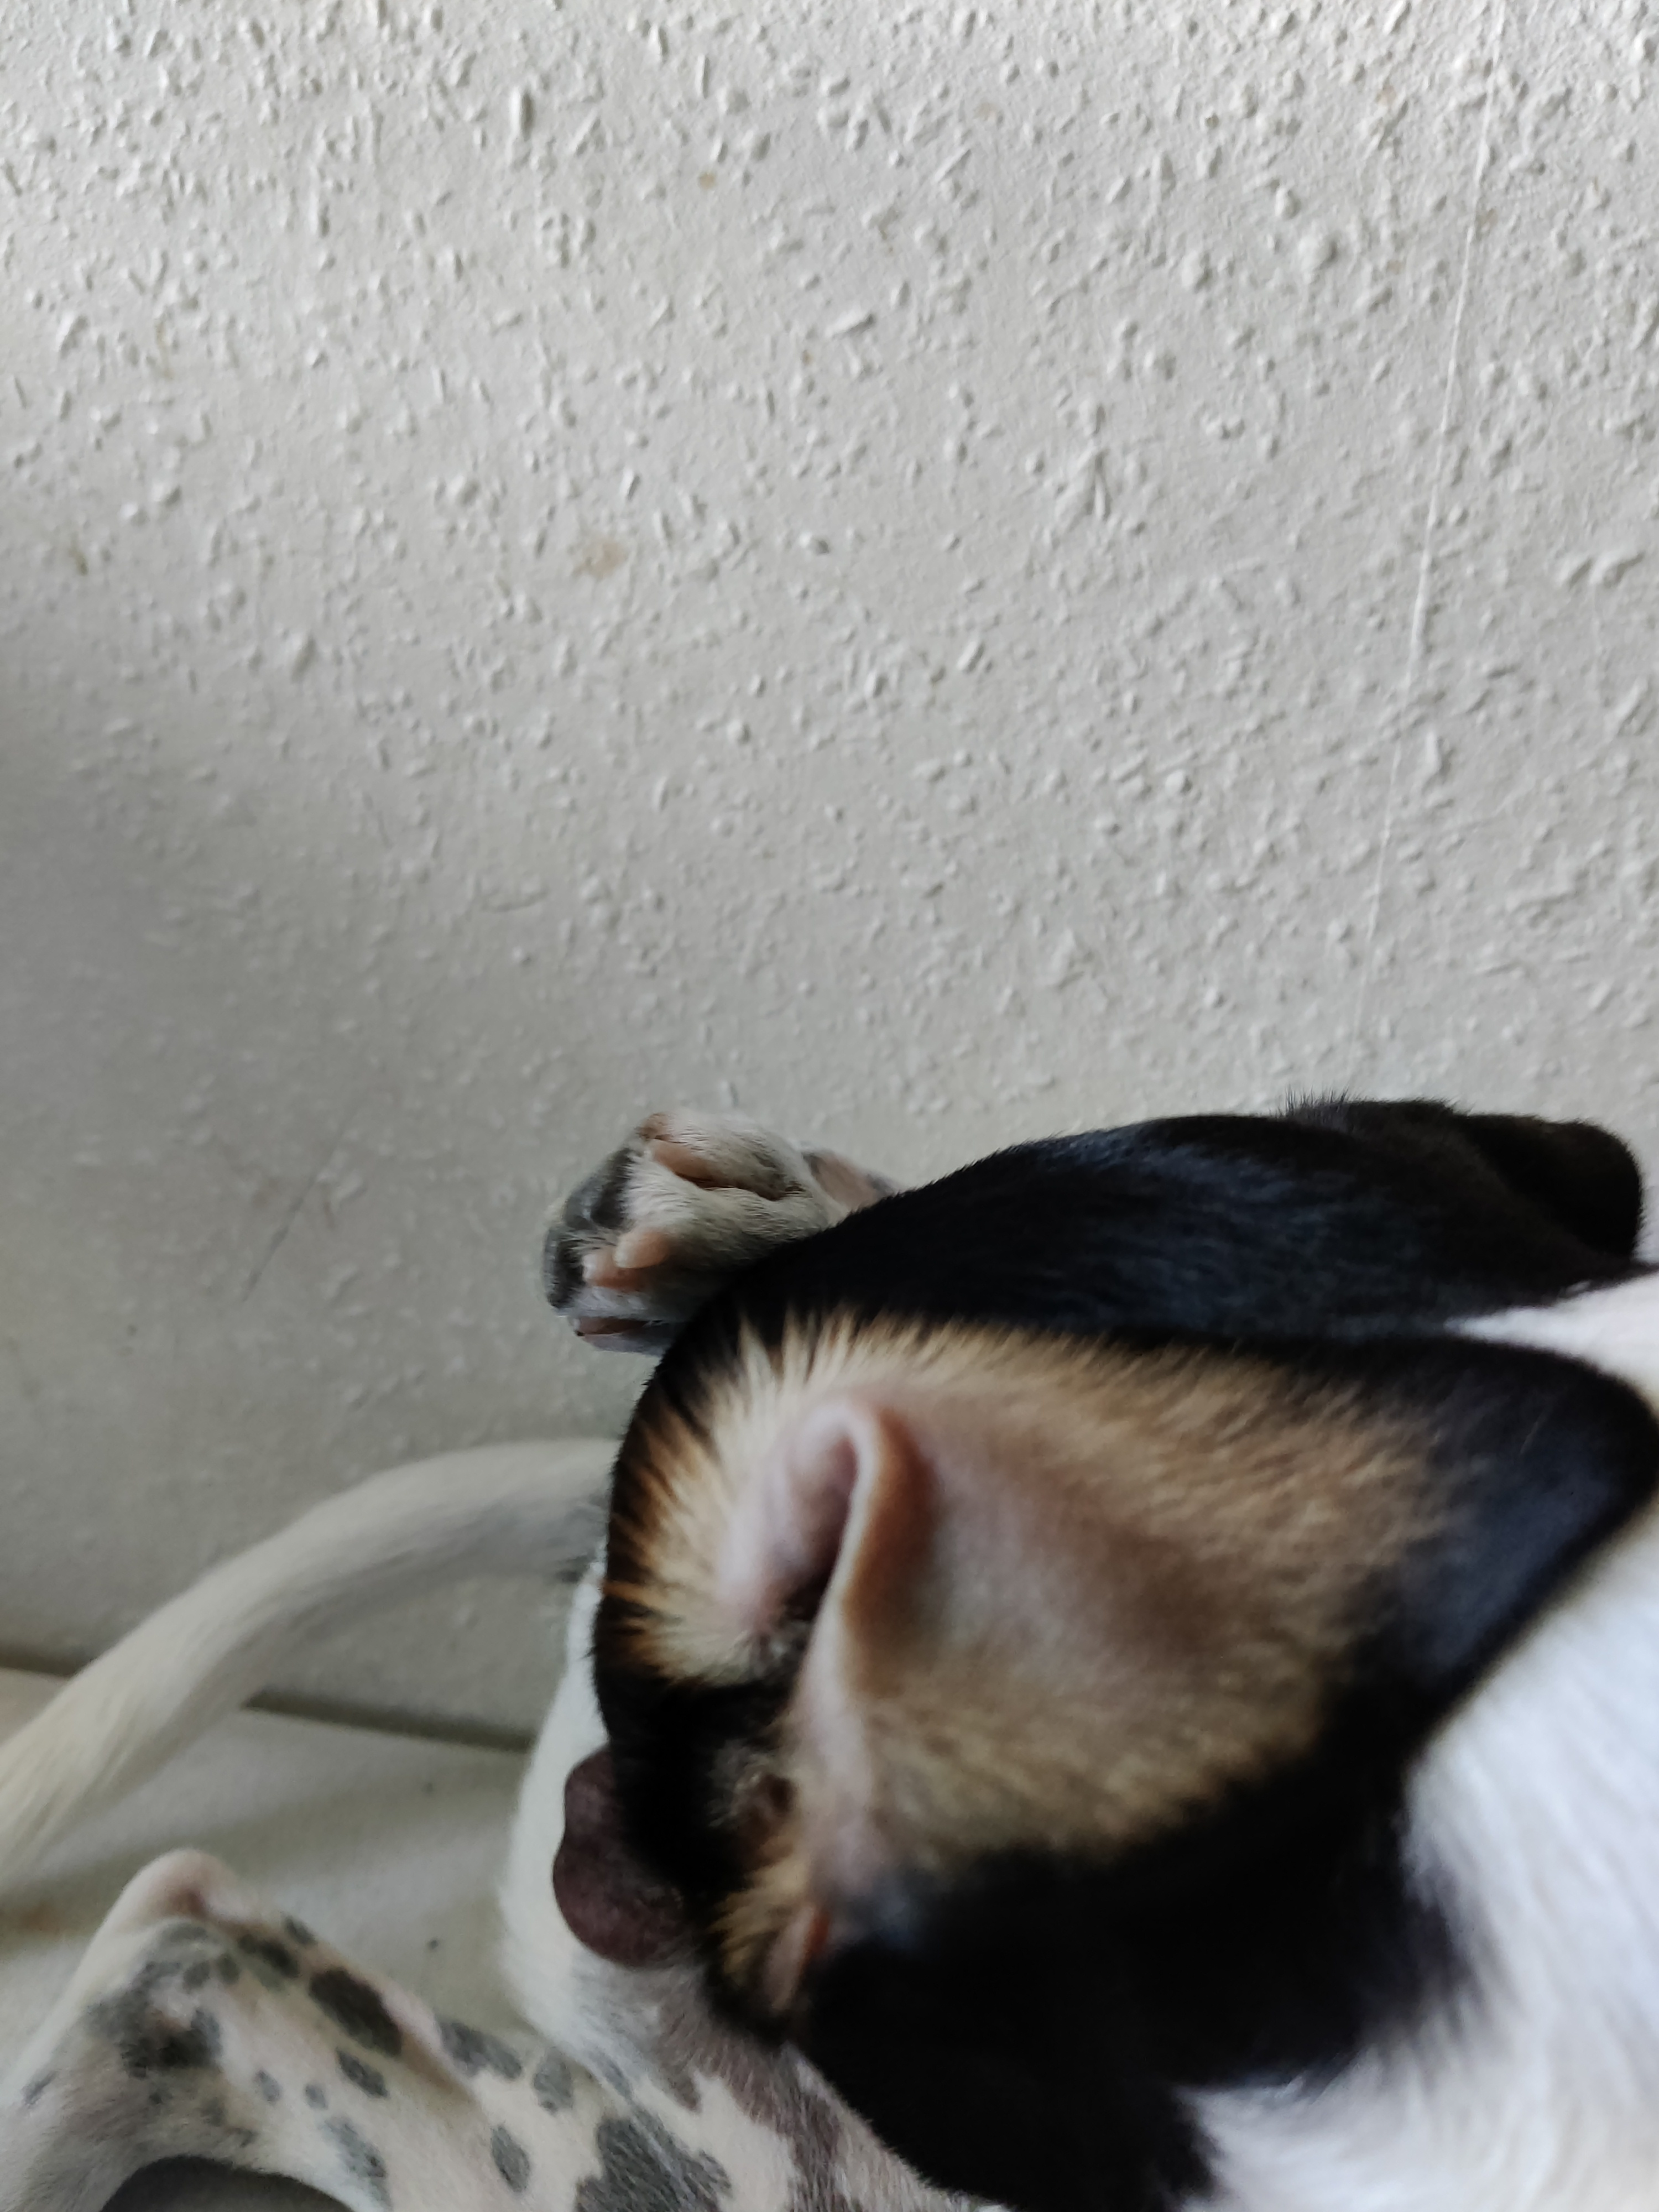Dog: (0, 1083, 1659, 2212)
